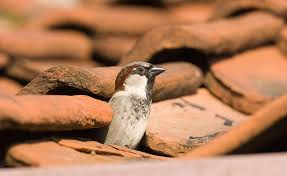hsparrow: (99, 58, 167, 160)
